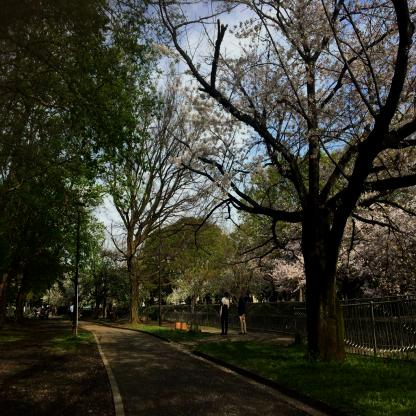Someiyoshino: (139, 0, 416, 242), (271, 168, 416, 297)
